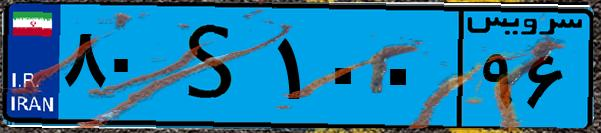0: (385, 28, 445, 110), (330, 28, 385, 110), (110, 28, 158, 98)
1: (270, 28, 330, 110)
6: (525, 38, 570, 115)
8: (57, 26, 110, 100)
9: (475, 38, 525, 113)
S: (158, 12, 270, 120)
